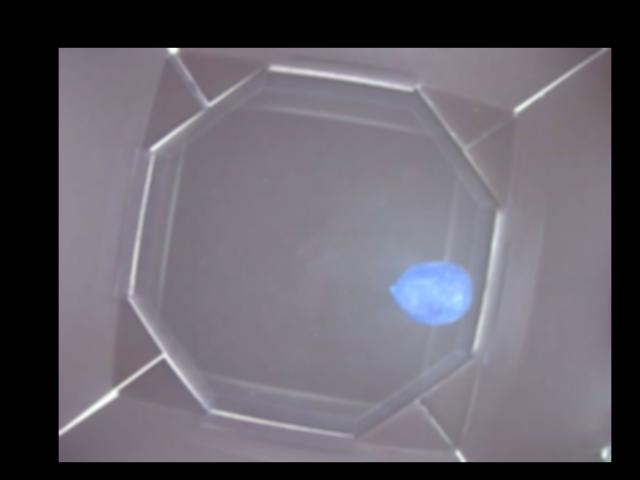Potato: (390, 255, 470, 324)
